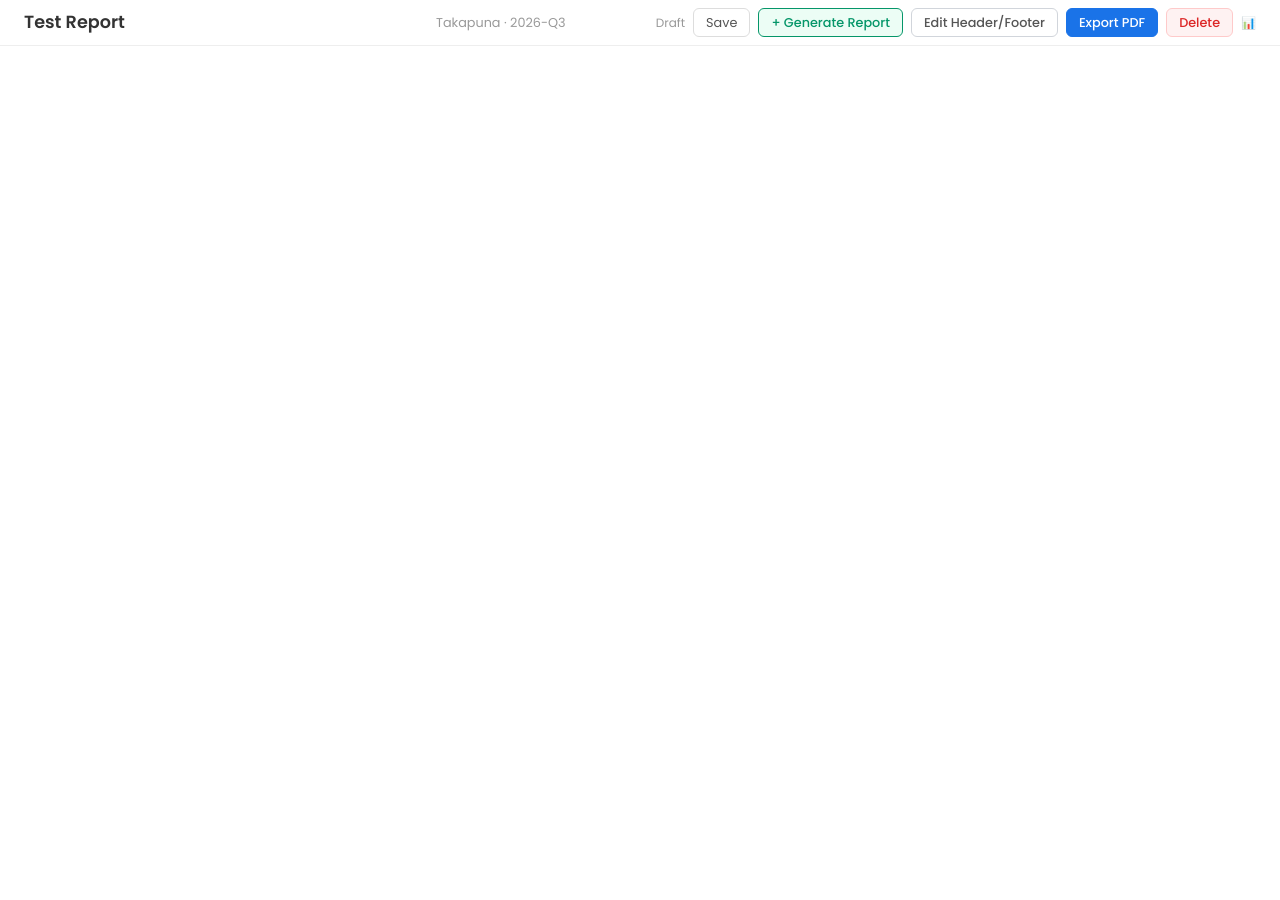
Test: Generate Report — Report Quarter derived from Report Month › ReportToolbar: month 2 maps to quarter 2026-Q1
Step 1. Click the button "+ Generate Report" → click(831, 23), box left=758, top=8, right=903, bottom=37
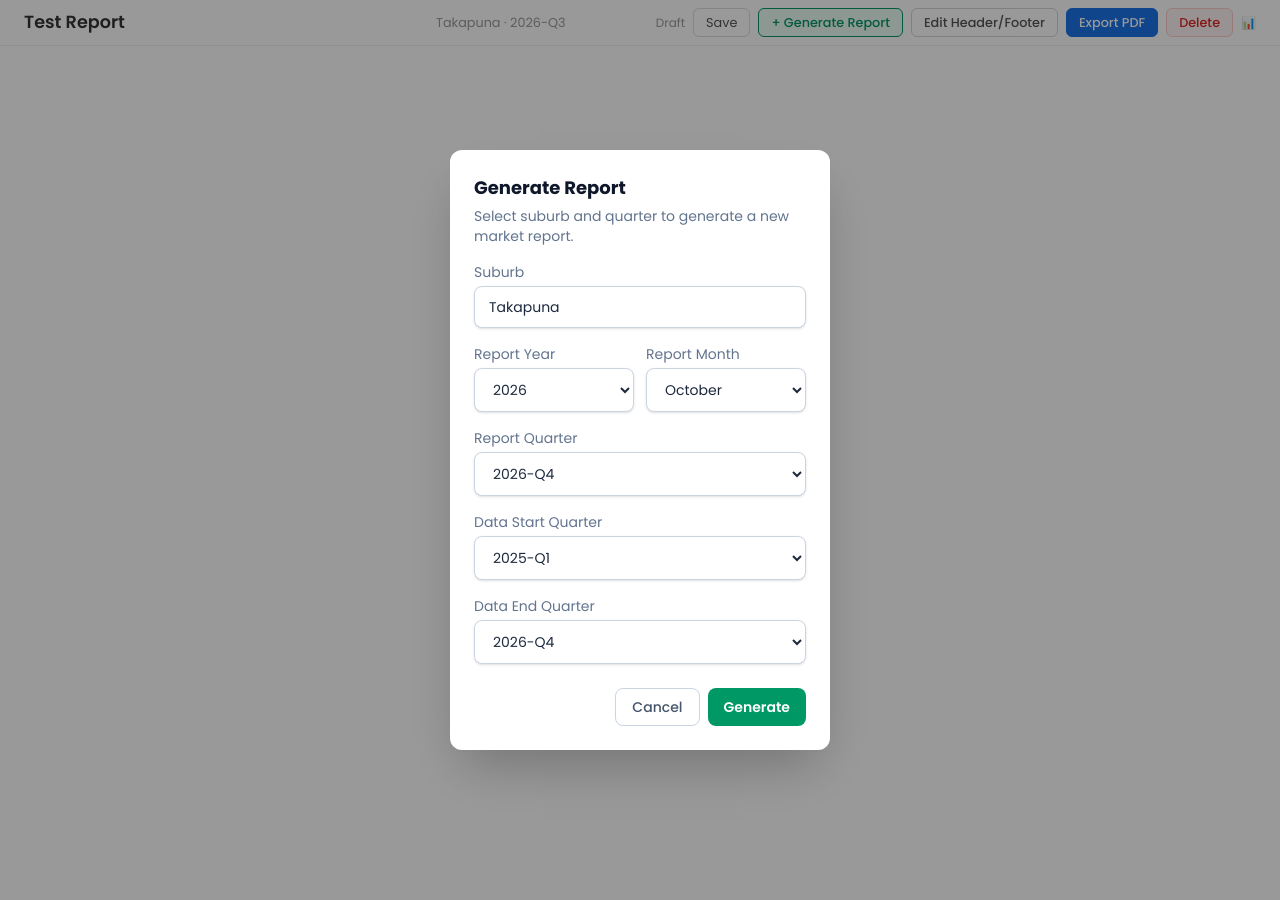
Step 2. Select "February" in the dropdown labelled "Report Month" → (726, 390), box left=646, top=368, right=806, bottom=412
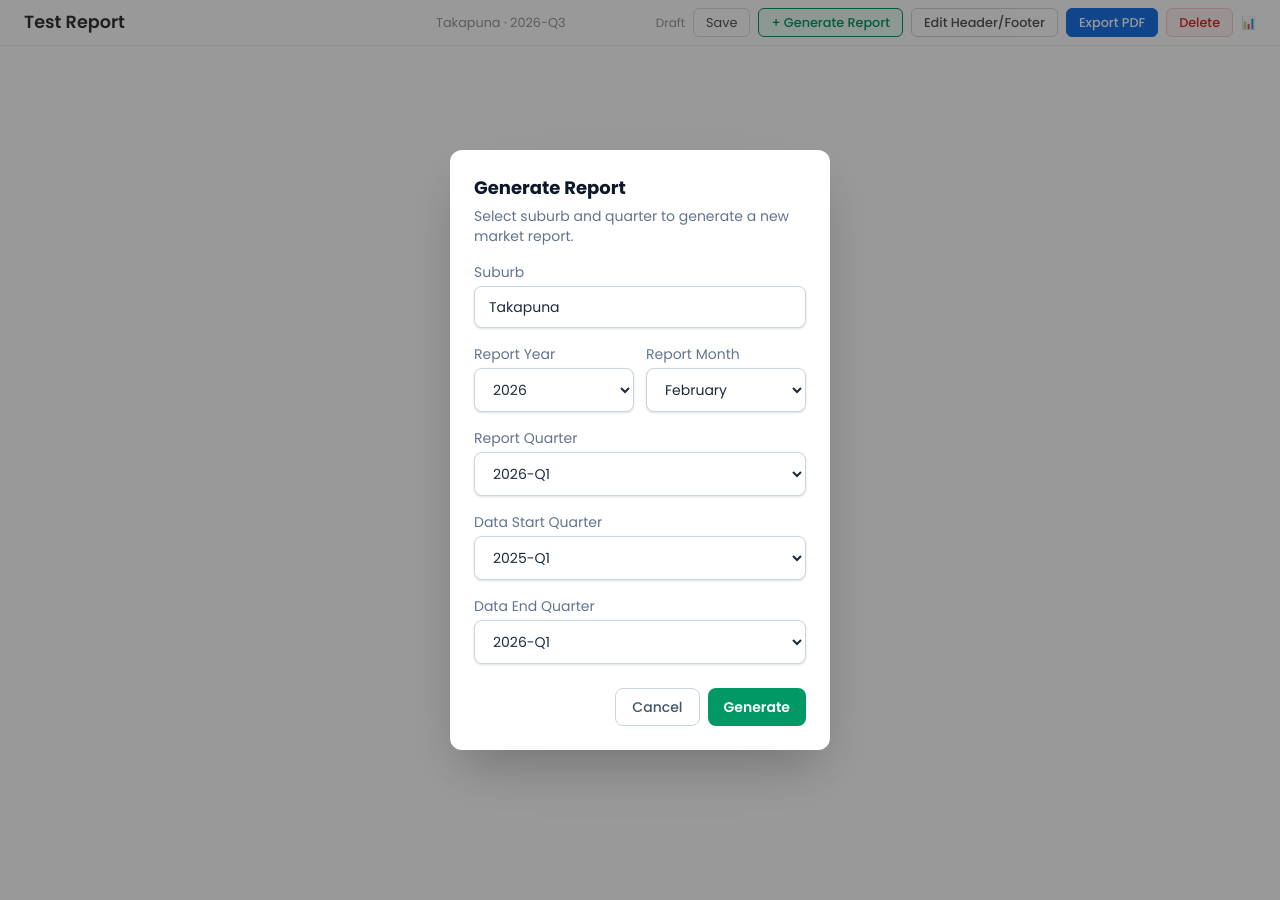
Expected: the dropdown labelled "Report Quarter" shows "2026-Q1", left=474, top=452, right=806, bottom=496
